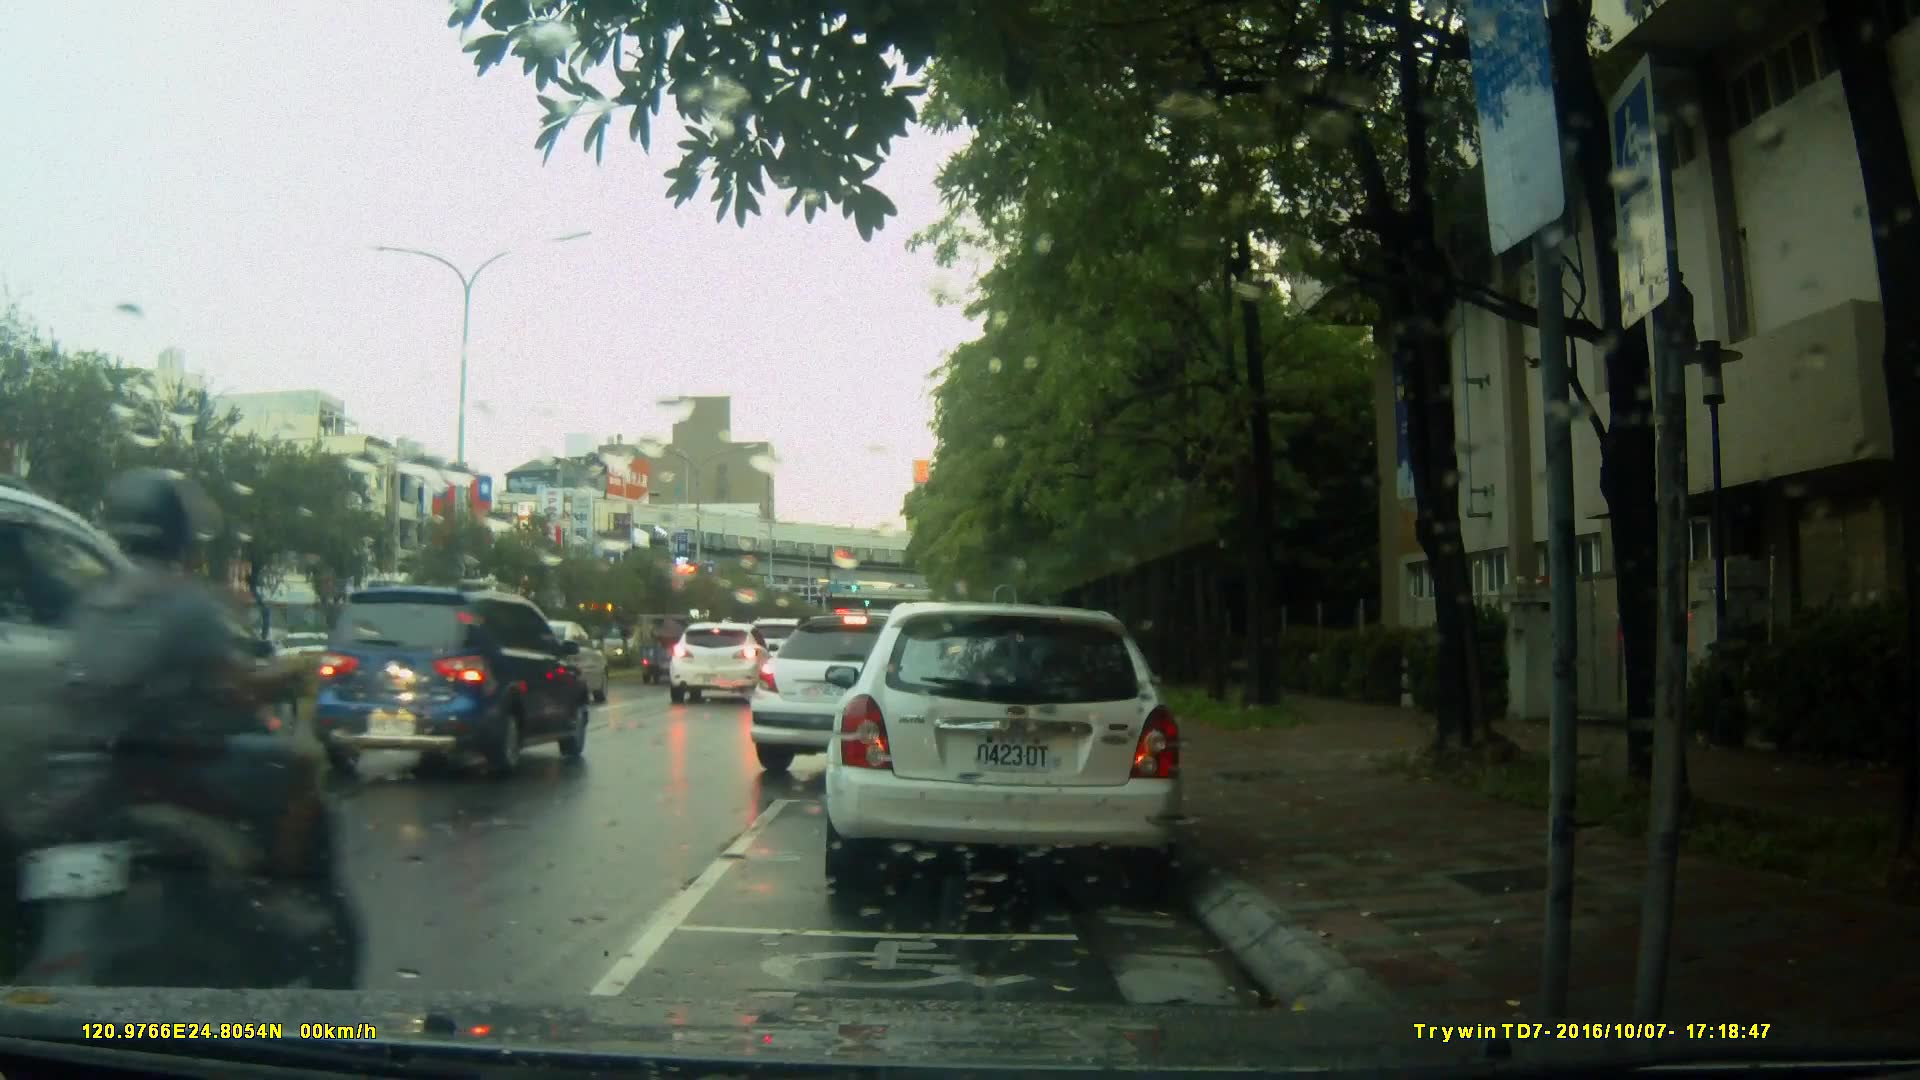rider: (23, 464, 351, 1047)
vehicle: (1, 470, 297, 966), (820, 602, 1188, 898), (306, 577, 595, 777), (743, 612, 1024, 785), (668, 620, 771, 706)
